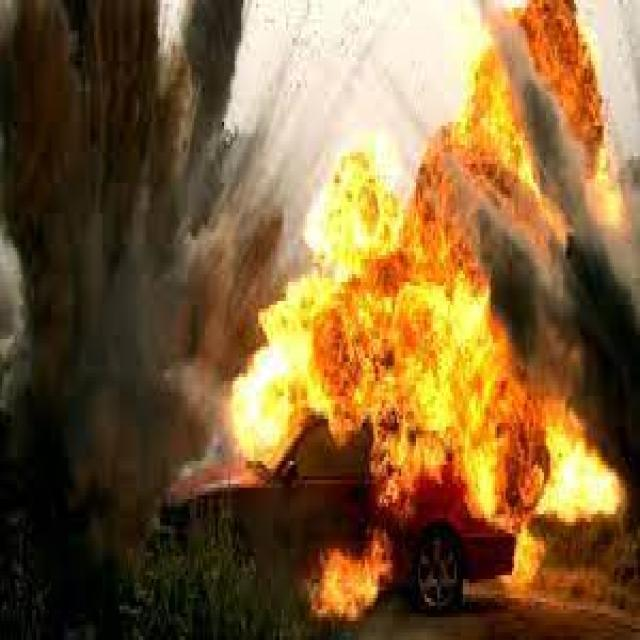fire: (175, 0, 640, 606)
